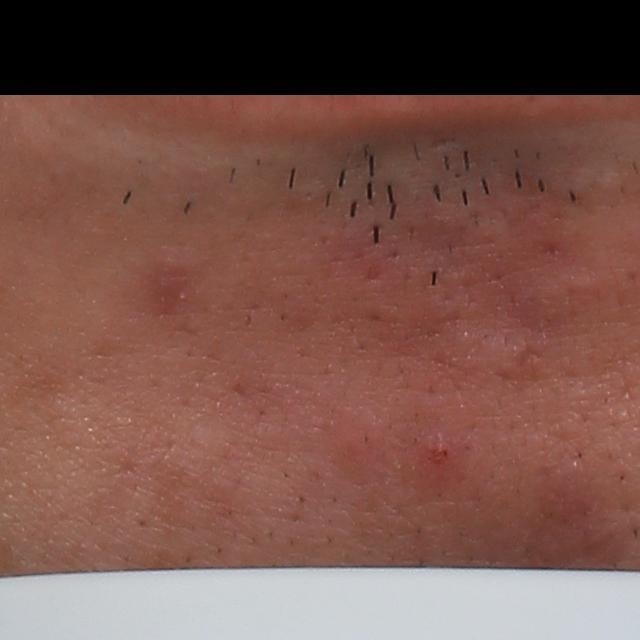hypertrophic_scar: (428, 320, 554, 387), (511, 269, 618, 328)
papule: (415, 422, 464, 481)
